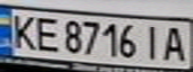1: (100, 20, 121, 57)
6: (115, 20, 142, 60)
7: (78, 18, 103, 56)
8: (60, 17, 84, 55)
A: (160, 24, 190, 63)
E: (30, 15, 63, 53)
I: (139, 22, 166, 61)
K: (3, 11, 39, 51)
